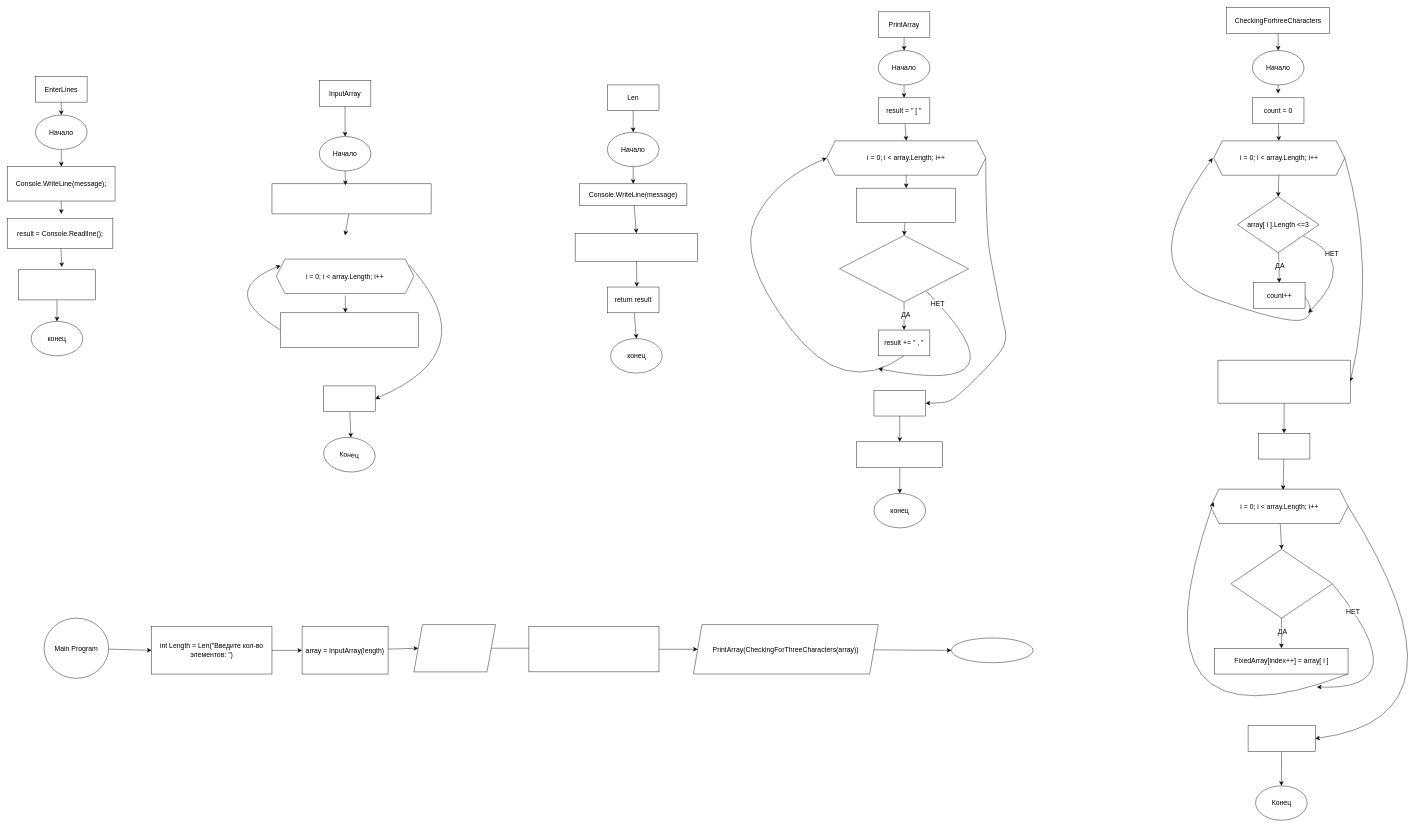
This 1415x828 diagram has some shape labels left out. The centre of each missing label's shape, as x and y in pixels:
array[ i ] = EnterLines("Введите {n + 1}-й элемент"): [349,329]
array[ i ].Length <= 3: [1281,583]
CheckingForThreeCharacters(array): [593,649]
Console.Write(result): [899,454]
end of the program: [992,650]
i != array.Length - 1: [904,268]
index = 0: [1284,446]
PrintArray(array) Console.Write(" → "): [454,648]
result += " \ "" + array[ i ] + " \ "": [906,205]
result += " ] ": [900,403]
result = Convert.ToInt32(Console.ReadLine()): [636,247]
return array: [349,398]
return FixedArray: [1281,738]
return result;: [57,284]
string [ ] array = new string[ length ]: [351,198]
string[ ] FixedArray = new string[count]: [1284,381]
